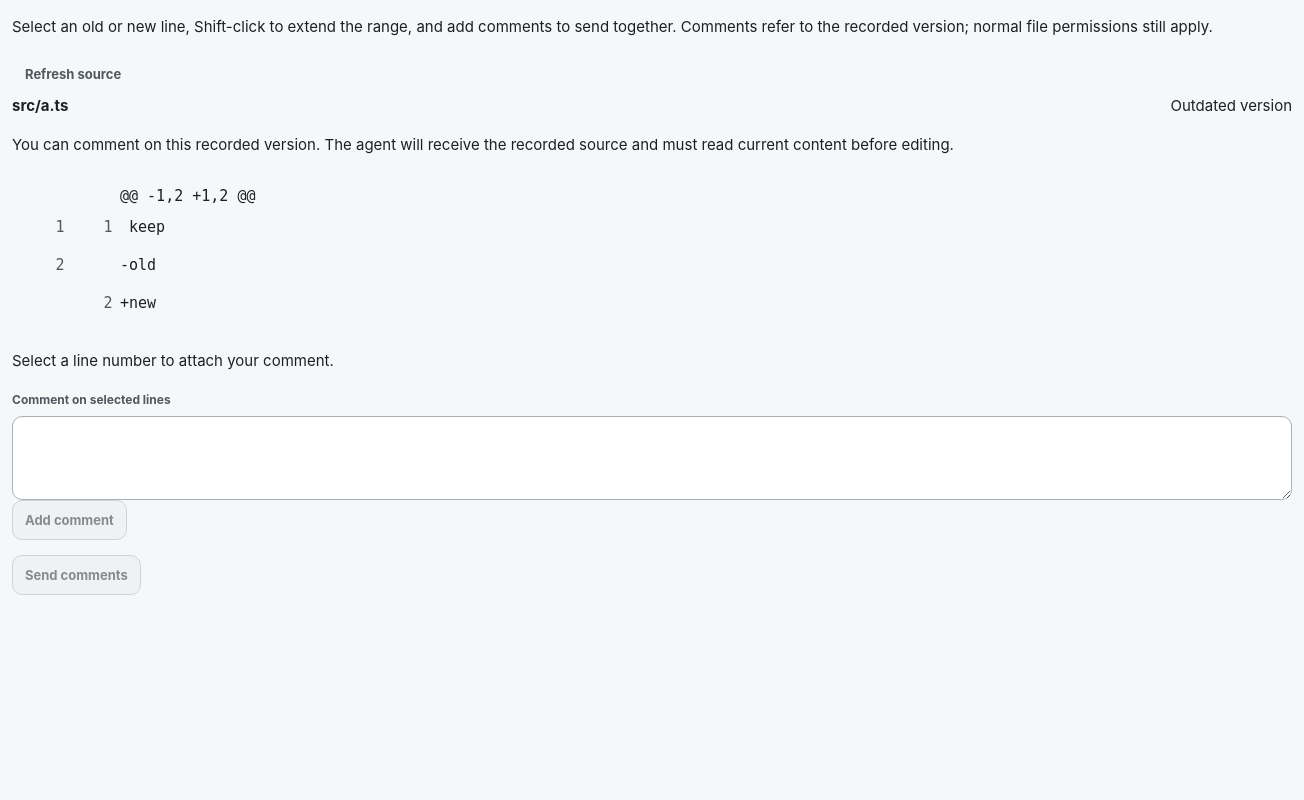
Scenario: keeps comments added while an earlier batch is being submitted
Click the button named "Select src/a.ts old line 2" at (60, 265), box [24,246,96,284]
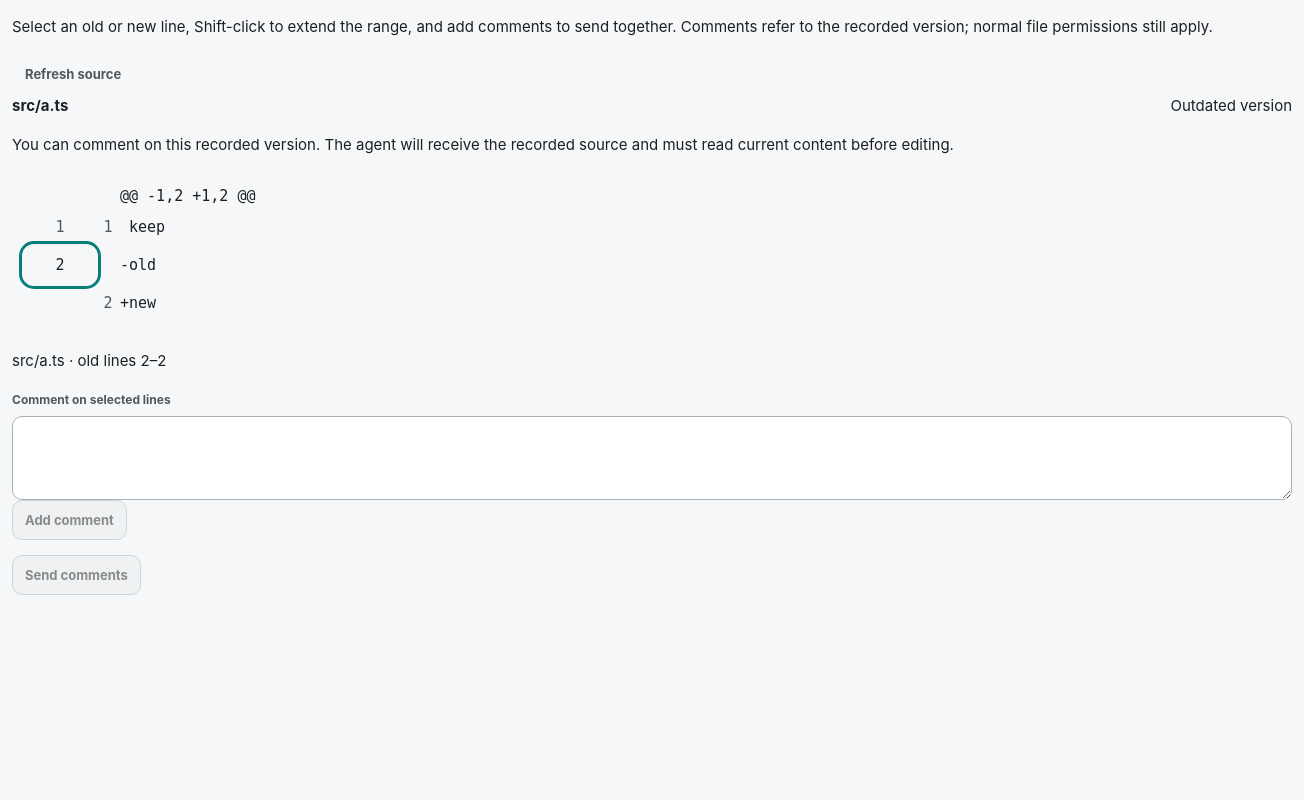
Type "First comment" into the text box at (652, 458), box [12,416,1292,500]
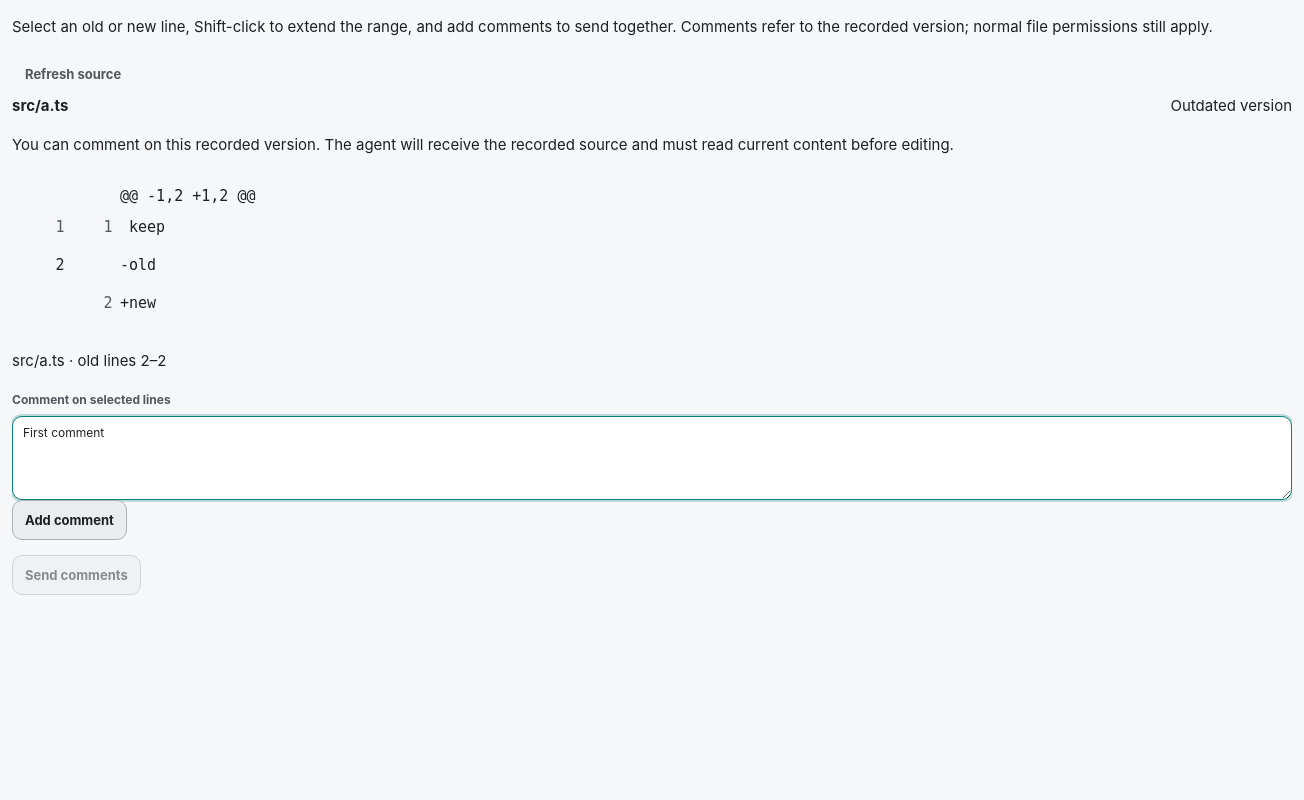
Click the button "Add comment" at (69, 520), box [12,500,127,540]
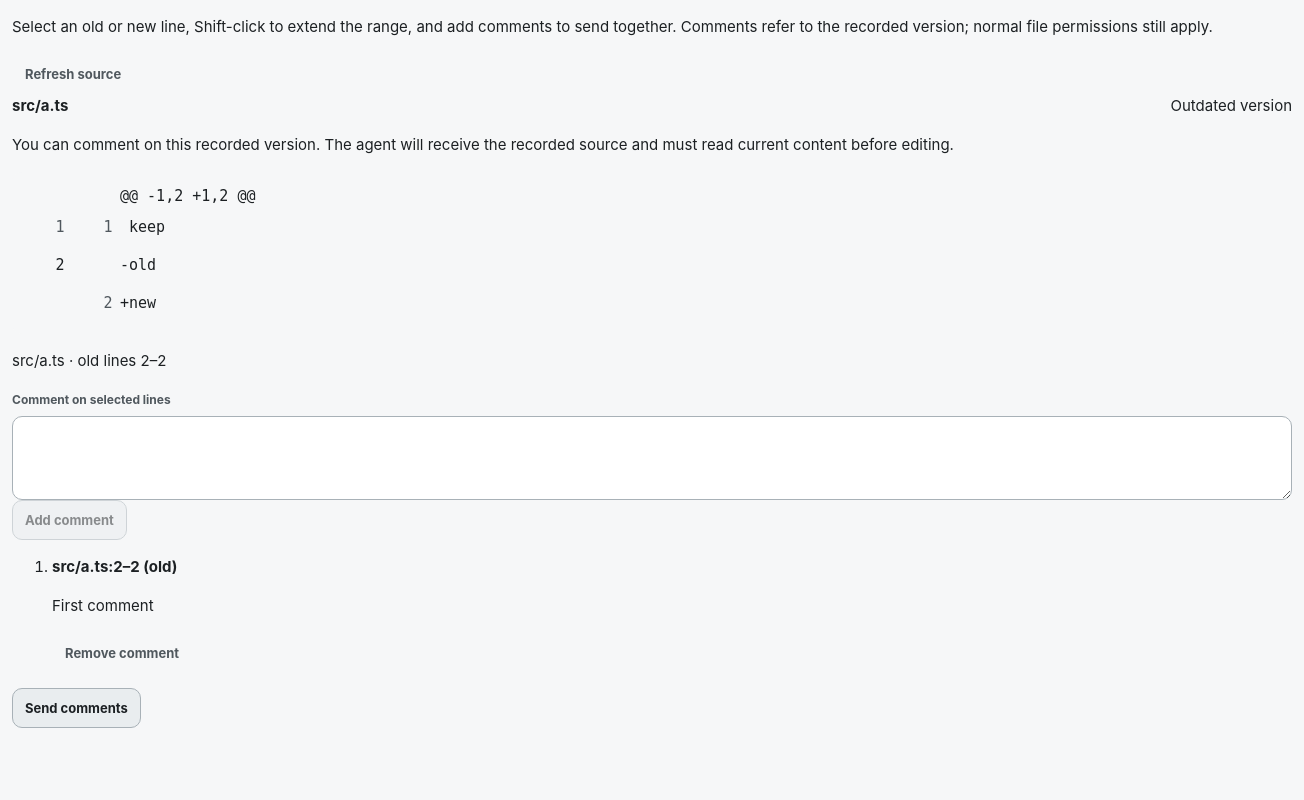
Click the button "Send comments" at (76, 708), box [12,688,141,728]
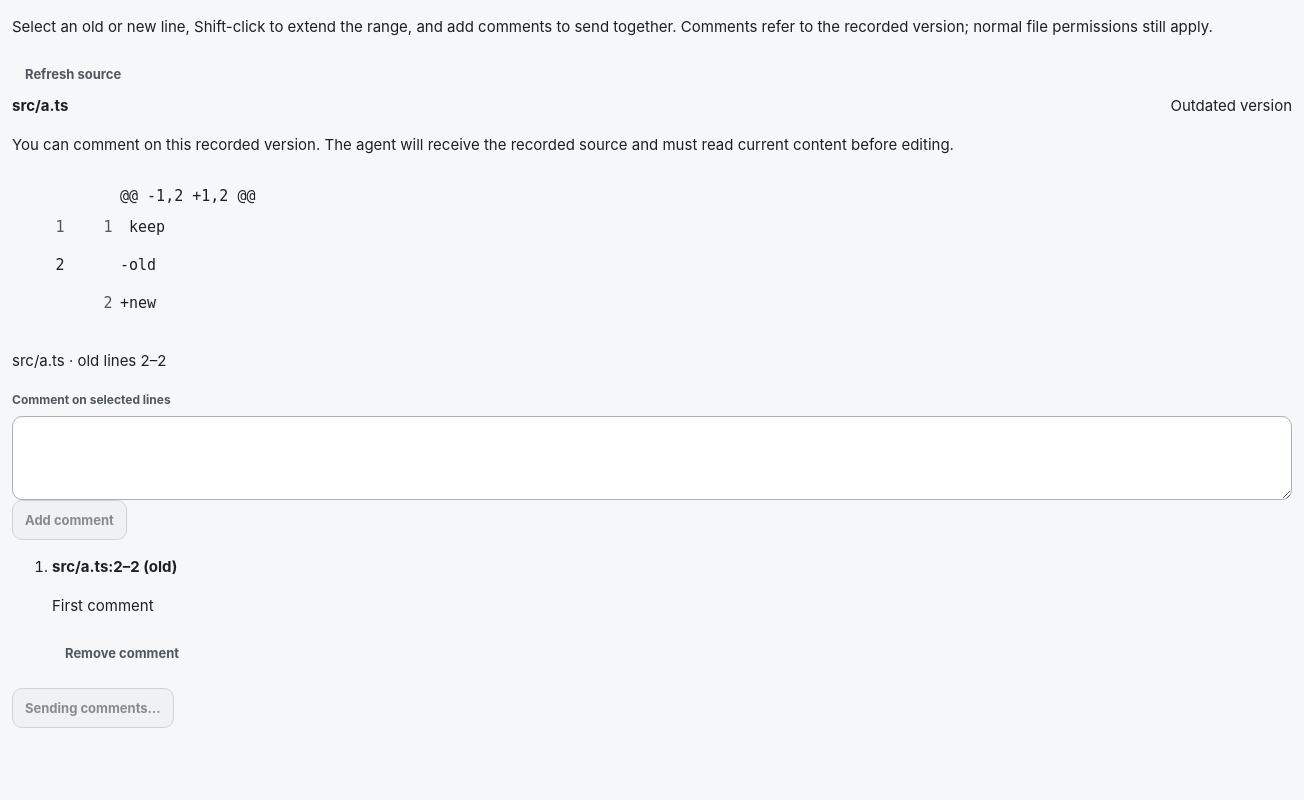
Type "Second comment while pending" into the text box at (652, 458), box [12,416,1292,500]
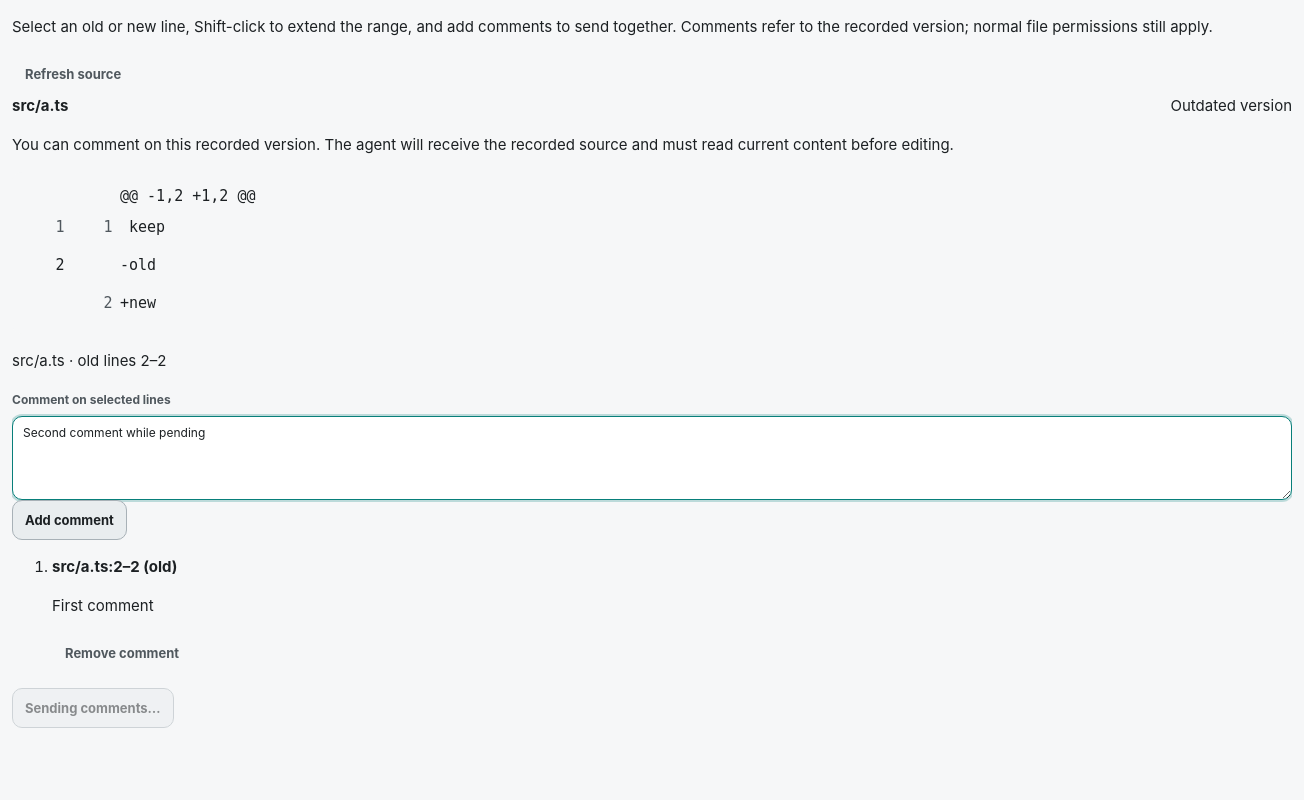
Click the button "Add comment" at (69, 520), box [12,500,127,540]
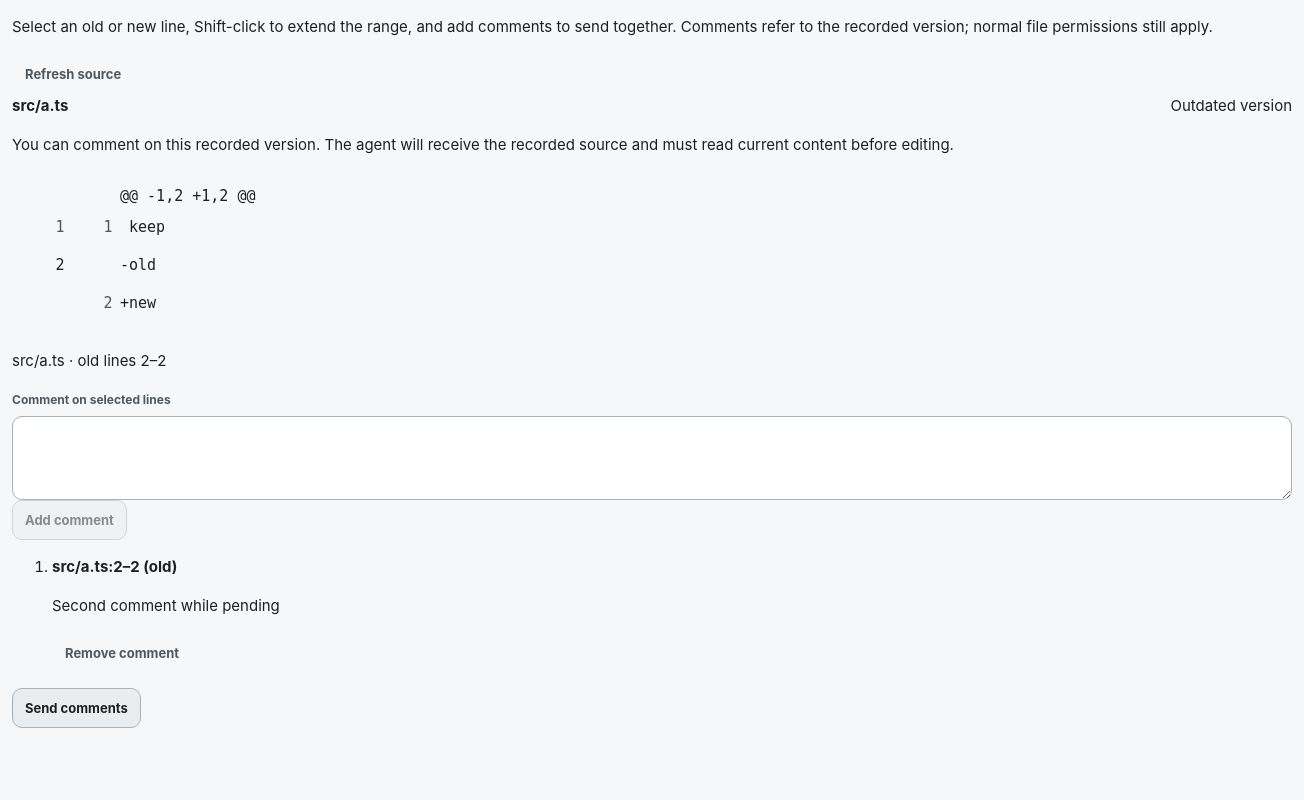
Expected: the text "First comment" is gone
Expected: the text "Second comment while pending" is shown, [52,596,280,615]
